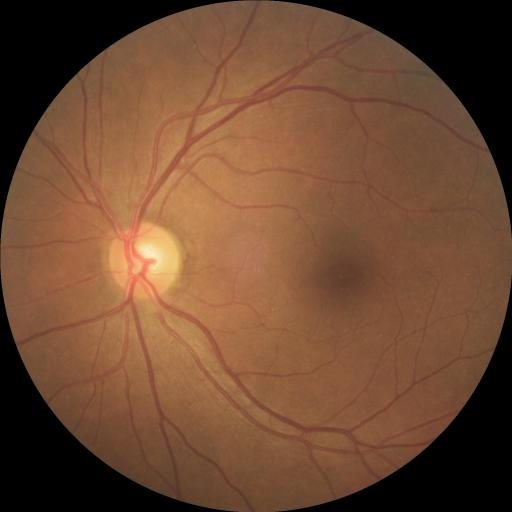Optic Cup: (129, 243, 163, 276)
Optic Disc: (107, 223, 181, 299)
